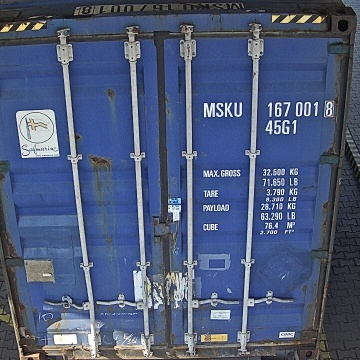serial_id: (204, 101, 334, 117)
